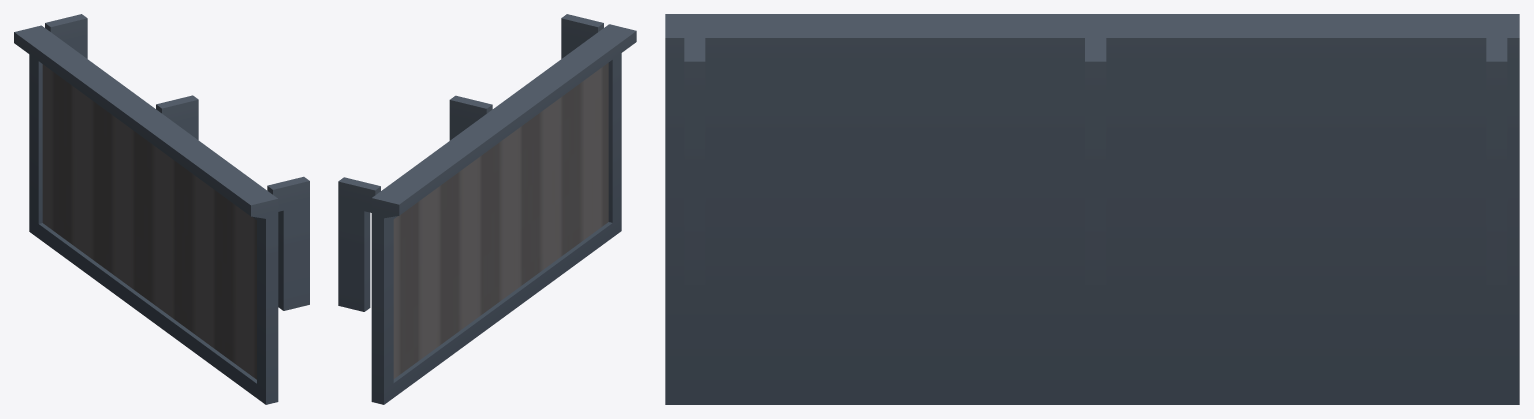
The model's file is SignProp_2_A_1.fbx.
3 renders of one model, left to right at view 1: azimuth 30°, elevation 25°; view 2: azimuth 150°, elevation 25°; view 3: azimuth 270°, elevation 25°, orthographic. The views are drawn at different scales.
Parts seen in each view (by area): view 1: SignProp_2_A_1; view 2: SignProp_2_A_1; view 3: SignProp_2_A_1.
Part boxes in pixels (bbox=[...]): SignProp_2_A_1: bbox=[14, 14, 309, 404]; SignProp_2_A_1: bbox=[338, 14, 636, 404]; SignProp_2_A_1: bbox=[665, 14, 1519, 404].
Bounding box in the file's own units: 20.96 × 64.95 × 134.
